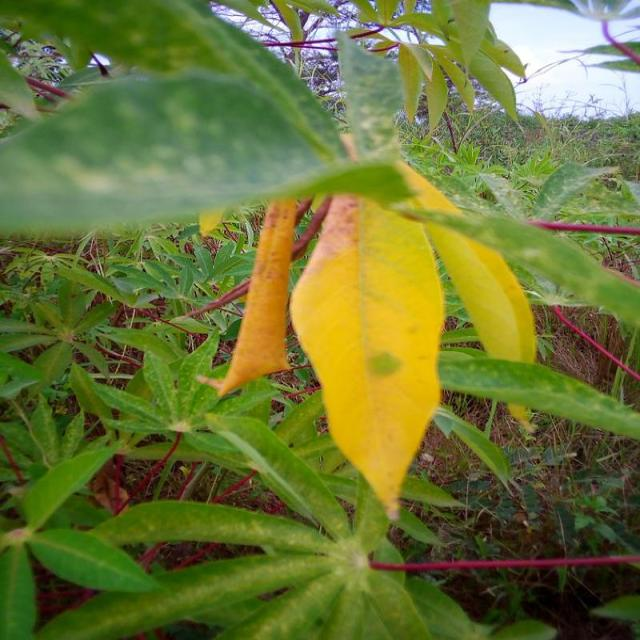cassava leaf: (0, 0, 349, 241), (287, 185, 446, 520)
